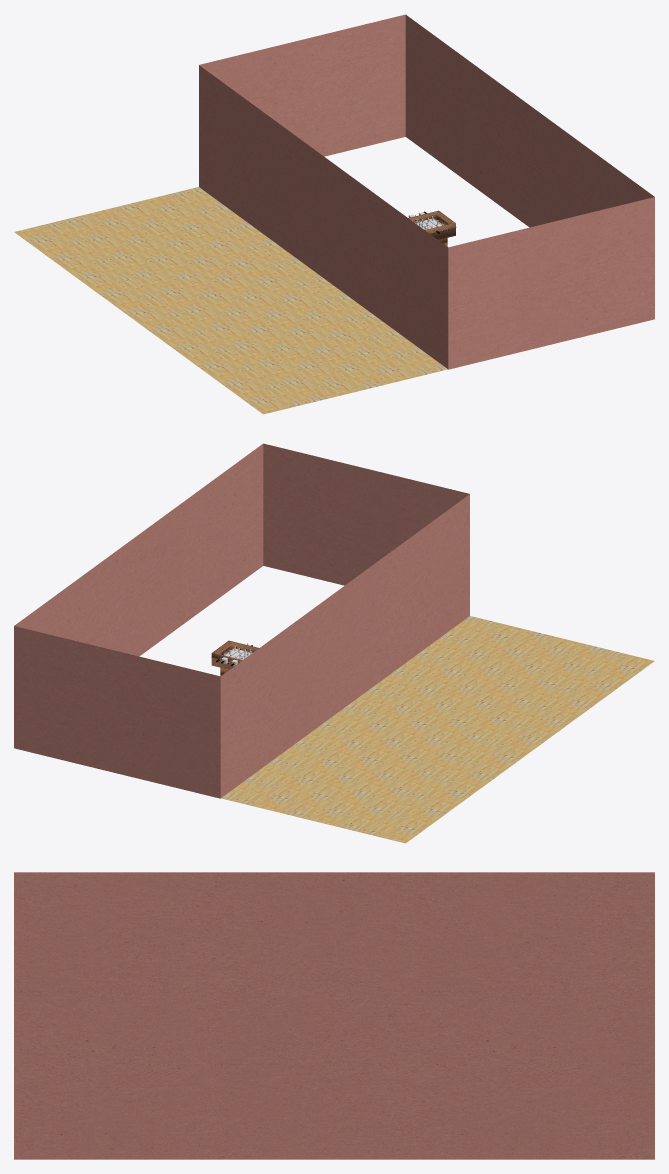
File: table.fbx
3 renders of one model, top to bottom at view 1: azimuth 30°, elevation 25°; view 2: azimuth 150°, elevation 25°; view 3: azimuth 270°, elevation 25°, orthographic. The views are drawn at different scales.
Visible parts, largest first — view 1: Wall, Floor, Table; view 2: Wall, Floor, Table; view 3: Wall.
Part boxes in pixels (x1,y1,x2,y2): Wall: (199, 14, 654, 369); Floor: (14, 187, 447, 414); Table: (408, 210, 456, 246); Wall: (14, 443, 469, 798); Floor: (221, 616, 654, 843); Table: (211, 640, 258, 676); Wall: (14, 872, 654, 1159).
Bounding box in the file's own units: 110 × 122 × 32.96.
